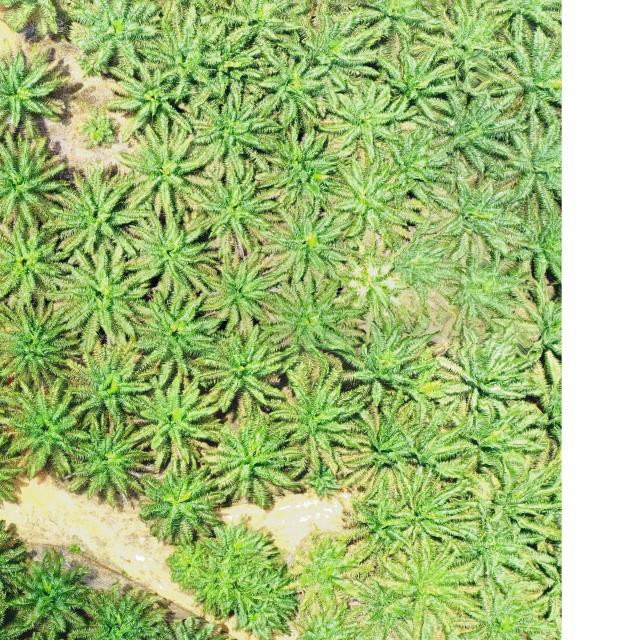Tree: (367, 531, 476, 640), (266, 368, 371, 478), (0, 376, 103, 482), (200, 416, 310, 512), (117, 122, 226, 218), (47, 168, 156, 264), (253, 268, 367, 358), (322, 157, 426, 255), (410, 88, 518, 180), (66, 249, 156, 358), (135, 5, 229, 106), (57, 336, 154, 433), (67, 414, 162, 512), (445, 508, 559, 589), (334, 319, 438, 407), (190, 323, 284, 419), (125, 285, 223, 375), (130, 369, 222, 463), (3, 545, 101, 632), (432, 174, 526, 264), (376, 467, 468, 558), (128, 206, 218, 298), (187, 164, 280, 253), (137, 456, 225, 546), (372, 40, 458, 130), (190, 92, 280, 176), (0, 296, 82, 388), (313, 78, 401, 163), (278, 533, 369, 615), (104, 62, 197, 142), (254, 210, 354, 284), (67, 0, 159, 78), (457, 398, 550, 475), (197, 247, 279, 334), (487, 27, 562, 122), (395, 394, 470, 487), (0, 134, 70, 232), (0, 218, 76, 308), (0, 47, 71, 141), (258, 123, 341, 202), (67, 579, 172, 640), (259, 47, 340, 124), (450, 581, 550, 640), (341, 404, 414, 482), (205, 0, 302, 56), (382, 126, 453, 201), (200, 45, 270, 112), (285, 599, 381, 640), (150, 614, 249, 640)
